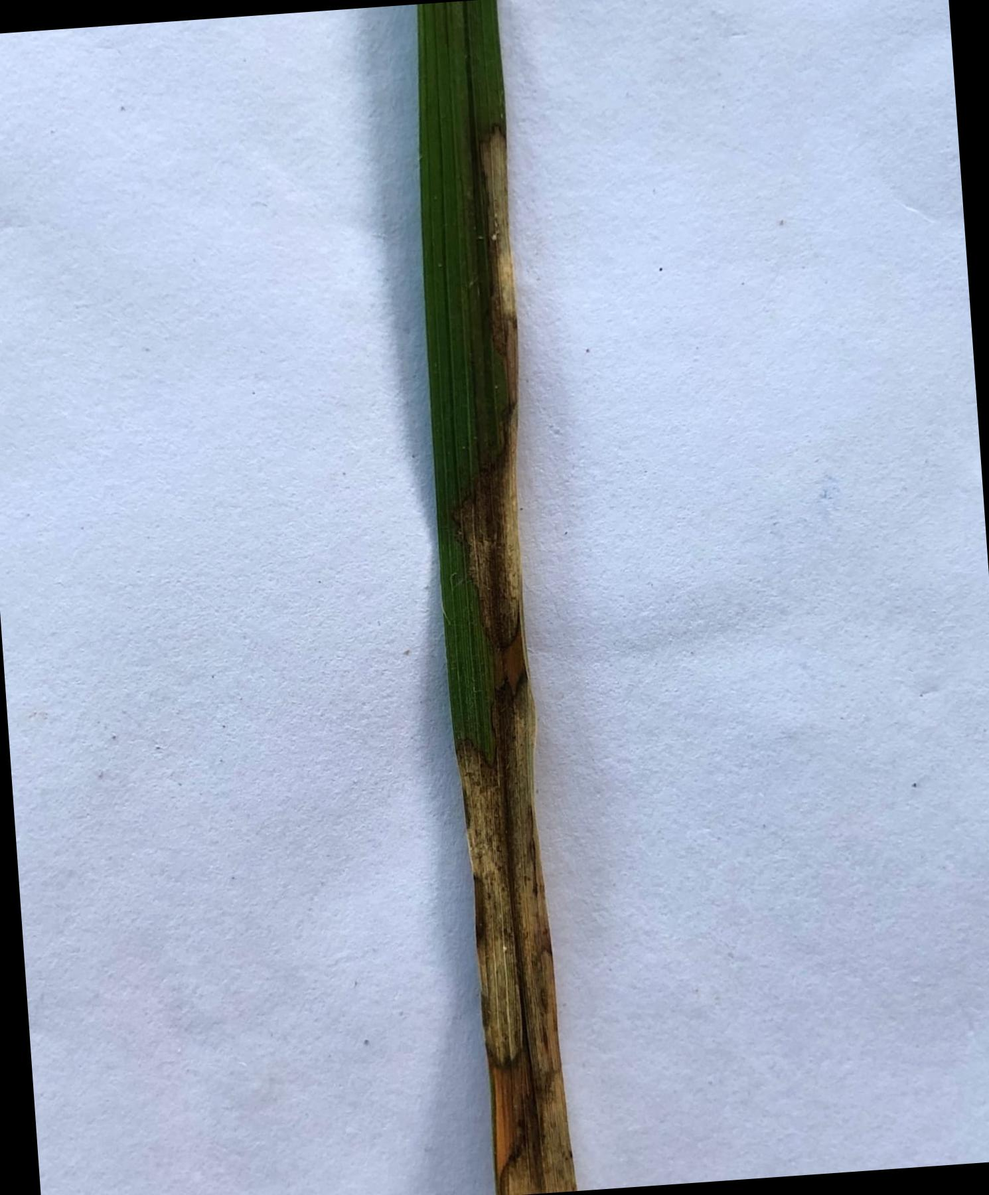Leaf Blight: (457, 124, 576, 1195)
